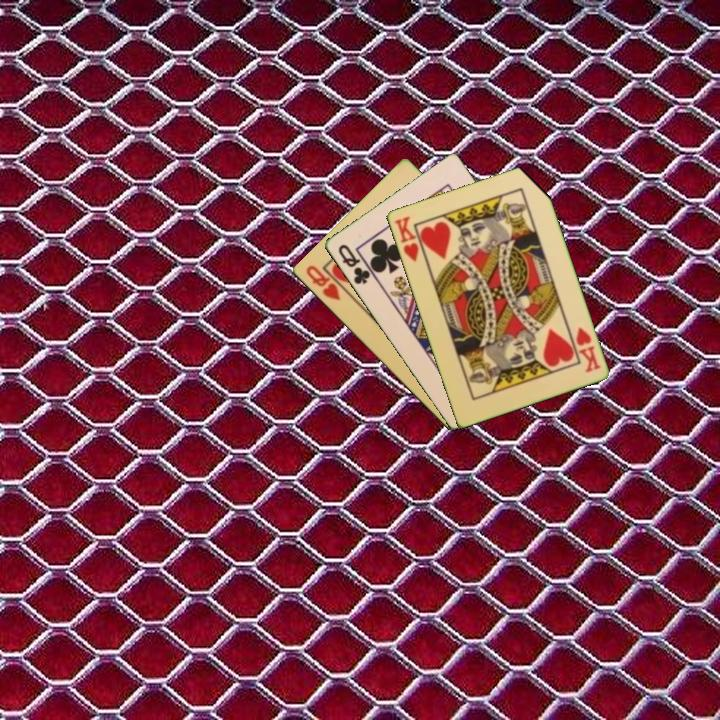Kh: (391, 212, 428, 265), (572, 324, 603, 375)
Qc: (334, 240, 373, 287)
Qh: (302, 262, 343, 304)
